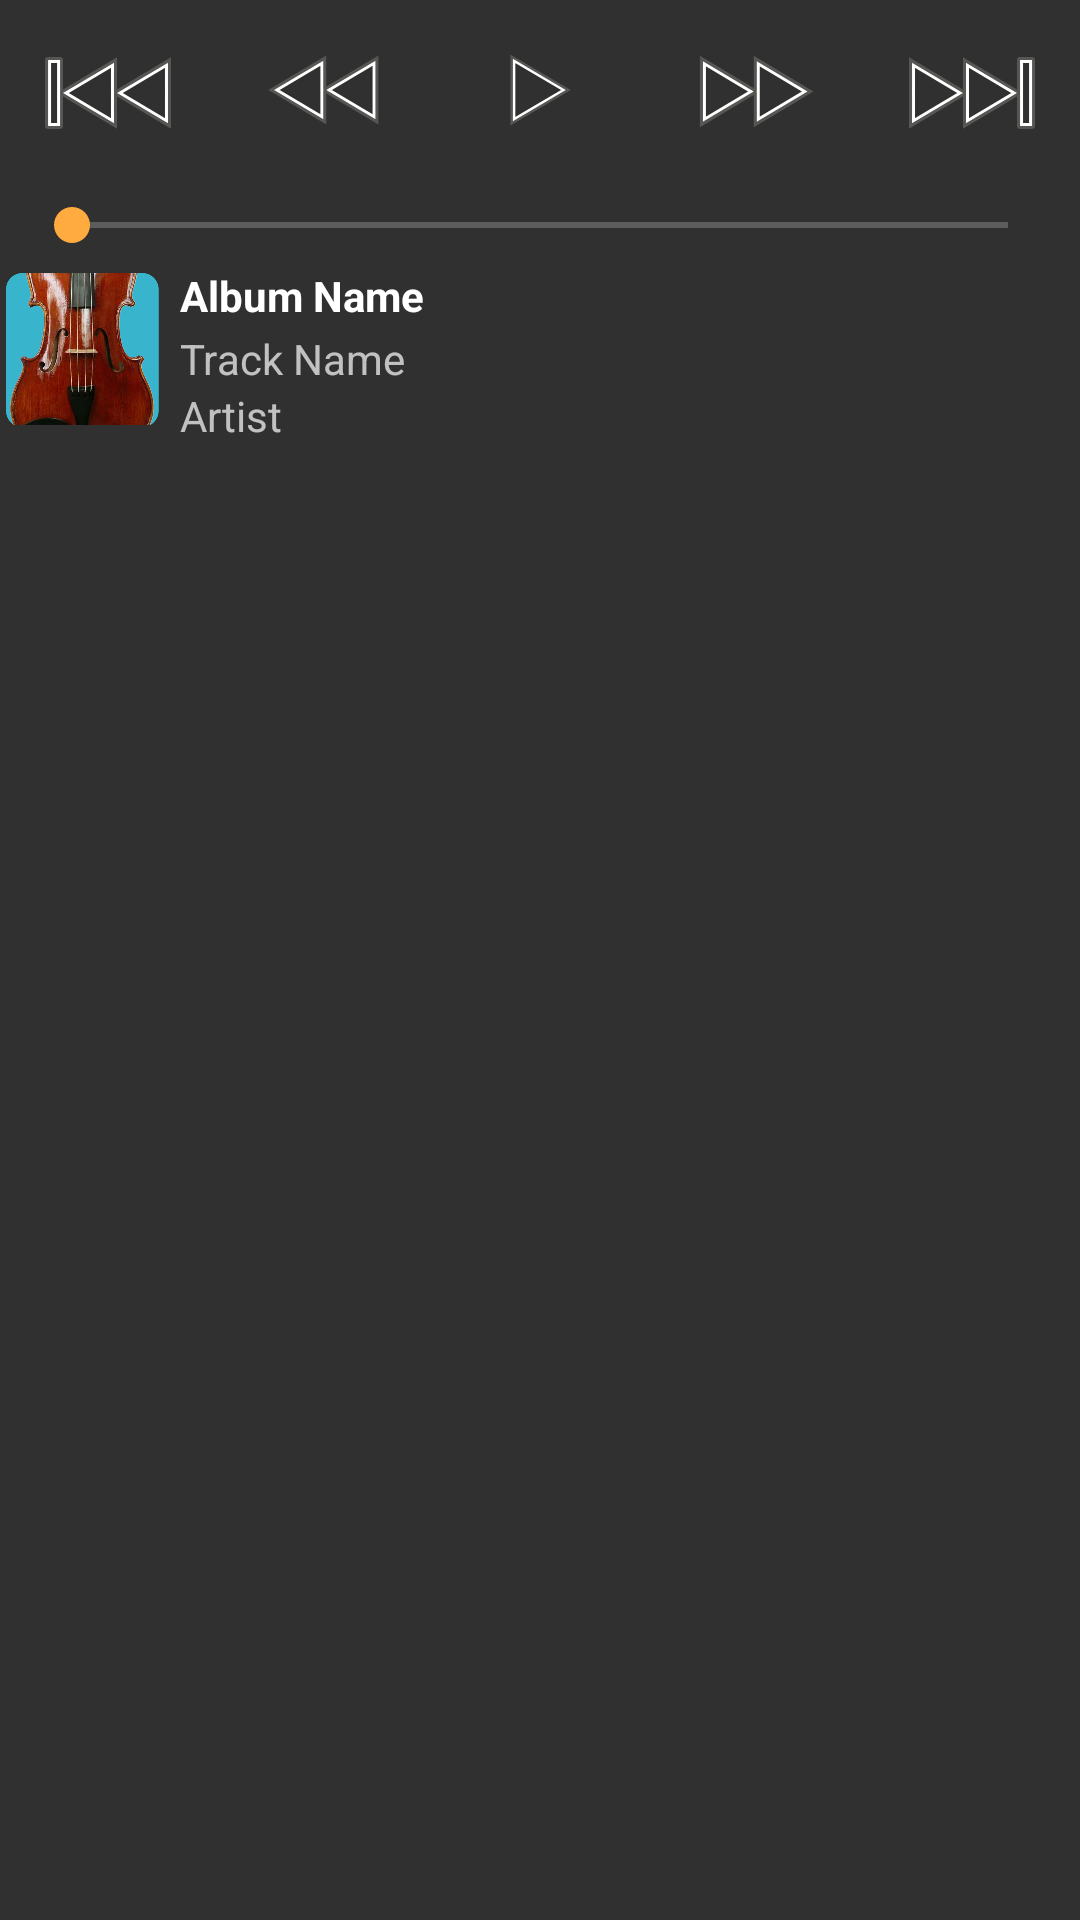

Screen size 1080x1920. Icon name, then its center in pixels as (x=x, y=y):
playback start: (x=540, y=90)
seek backward: (x=323, y=90)
seek forward: (x=756, y=91)
skip backward: (x=108, y=93)
skip forward: (x=972, y=93)
violin: (x=82, y=349)
